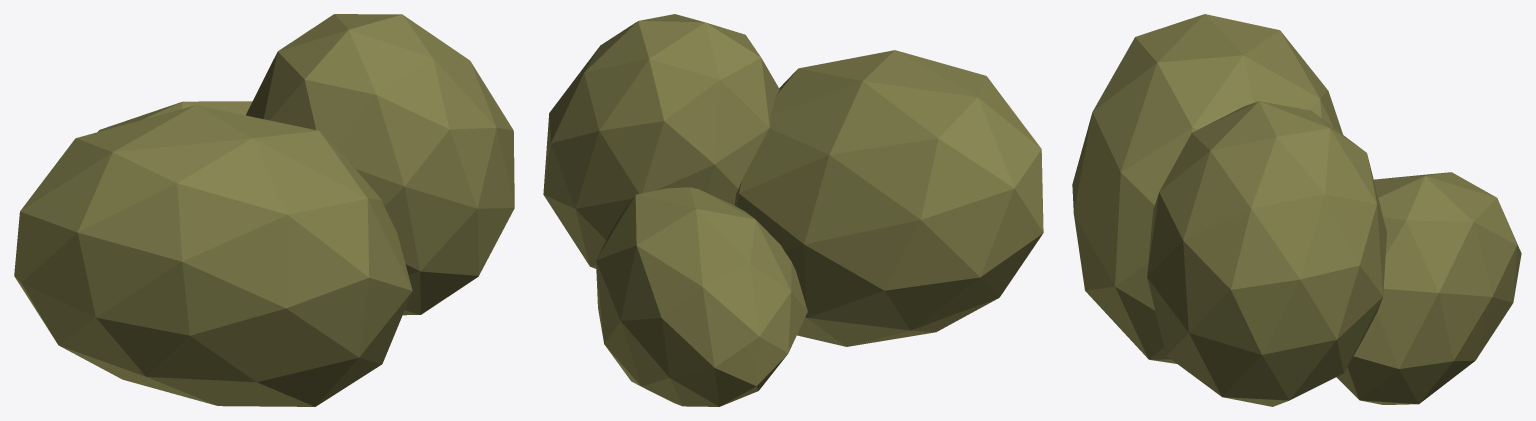
Rendered from Bush1.fbx.
3 views of the same model, side by side, from view 1: azimuth 30°, elevation 25°; view 2: azimuth 150°, elevation 25°; view 3: azimuth 270°, elevation 25° (orthographic). The views are drawn at different scales.
Visible parts, largest first — view 1: Icosphere.004; view 2: Icosphere.004; view 3: Icosphere.004.
Boxes of the visible parts, bbox=[...] form: Icosphere.004: bbox=[14, 14, 514, 406]; Icosphere.004: bbox=[543, 14, 1043, 406]; Icosphere.004: bbox=[1072, 14, 1521, 406].
Size of the model in its own units: 361 by 231 by 298.
